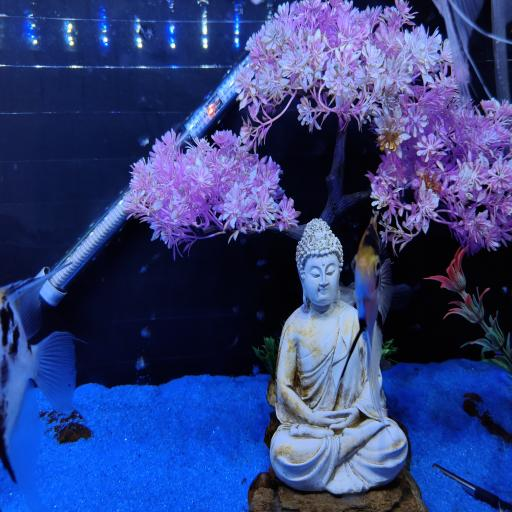Fish: (0, 275, 75, 511), (341, 218, 393, 423)
